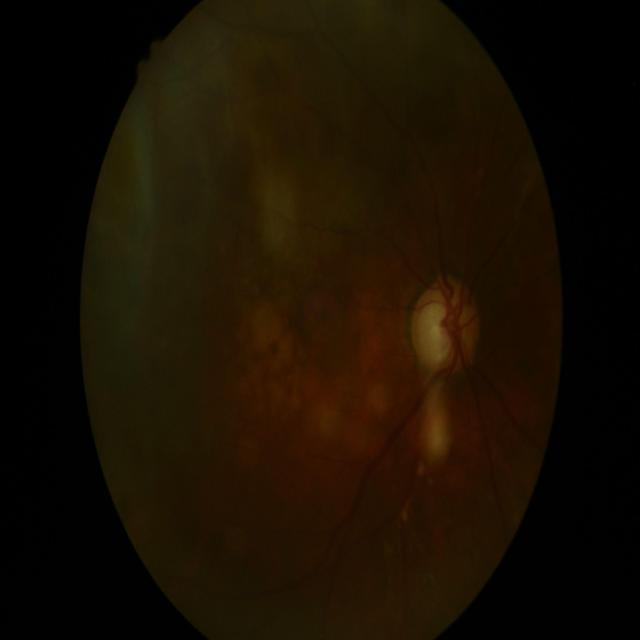cup: (416, 288, 468, 369)
disk: (409, 276, 482, 377)
